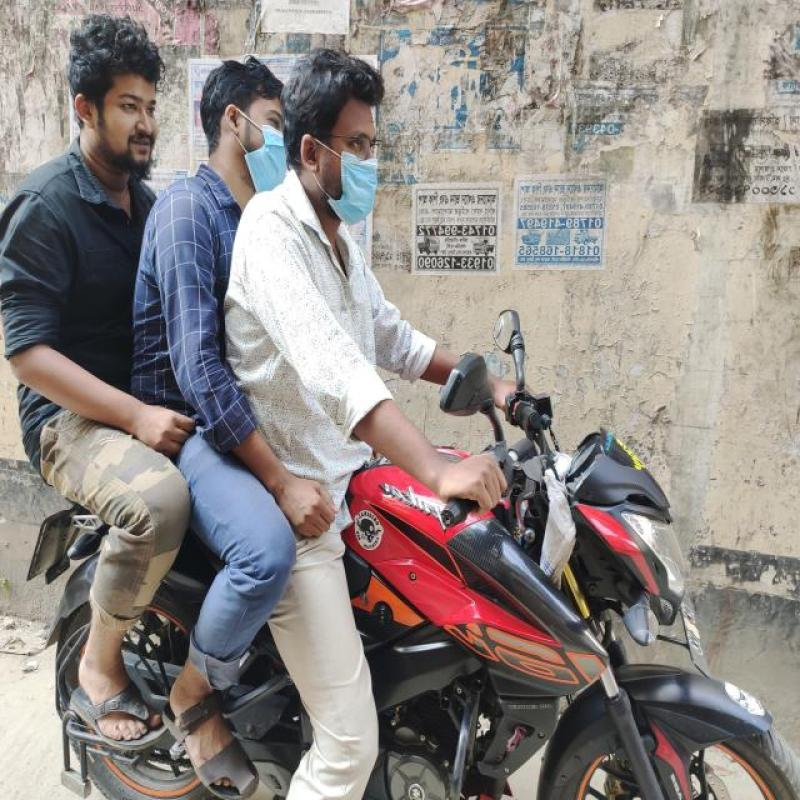nohelmet: (285, 42, 400, 246), (58, 0, 171, 199), (198, 42, 287, 210)
